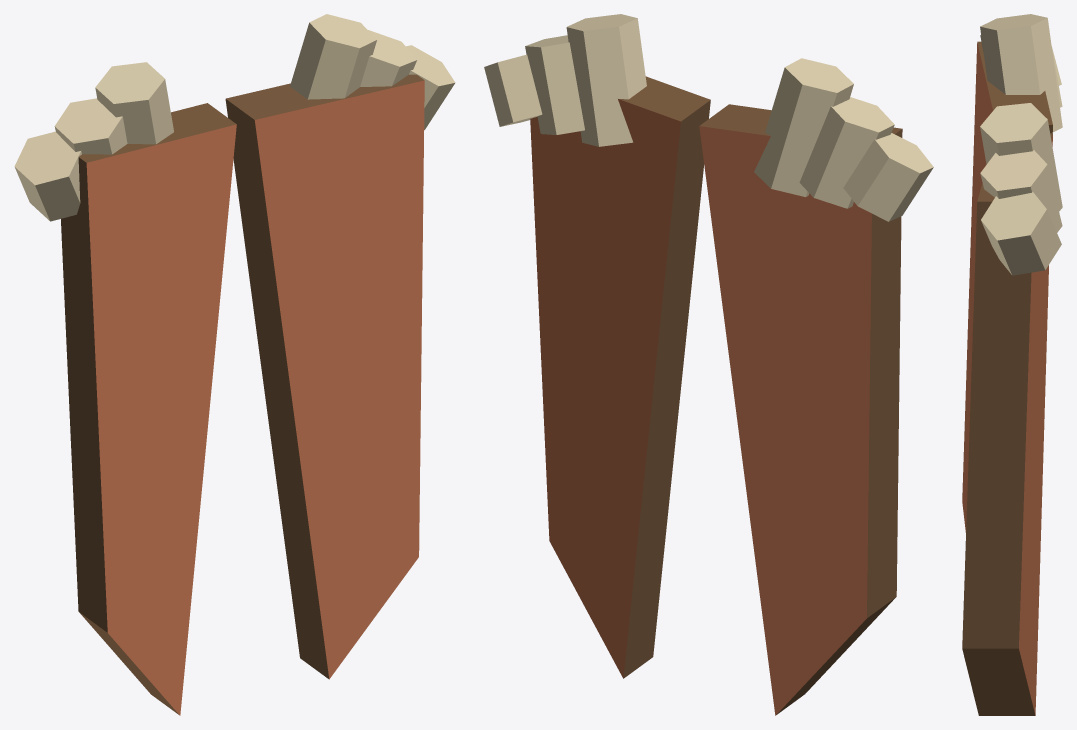
Rendered from split_mantle.glb.
3 views of the same model, side by side, from view 1: azimuth 30°, elevation 25°; view 2: azimuth 150°, elevation 25°; view 3: azimuth 270°, elevation 25° (orthographic). The views are drawn at different scales.
Parts seen in each view (by area): view 1: split_mantle; view 2: split_mantle; view 3: split_mantle.
Part boxes in pixels (x1,y1,x2,y2): split_mantle: (14,14,455,715); split_mantle: (484,14,933,715); split_mantle: (962,14,1062,715).
Size of the model in its own units: 0.574 by 0.8158 by 0.1206.
